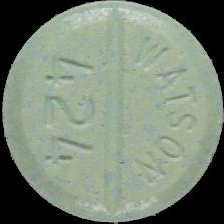55700-394: (0, 0, 224, 224)
